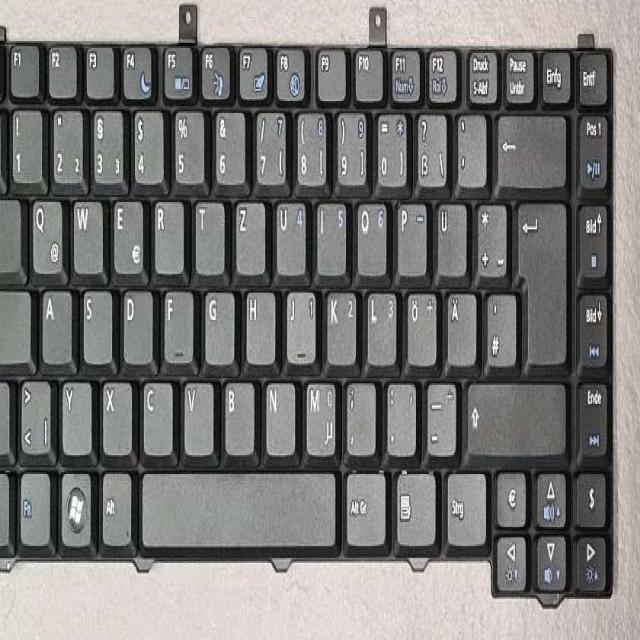0: (374, 108, 408, 188)
1: (9, 105, 43, 187)
2: (50, 105, 84, 187)
3: (91, 105, 124, 187)
4: (131, 106, 164, 185)
5: (171, 106, 205, 187)
6: (213, 106, 246, 187)
7: (254, 108, 286, 185)
8: (294, 108, 327, 188)
9: (335, 108, 367, 188)
a: (40, 286, 73, 364)
accent: (455, 110, 487, 188)
ae: (444, 289, 477, 368)
alt-left: (99, 469, 132, 547)
altgr-right: (343, 467, 386, 548)
b: (221, 376, 255, 457)
c: (140, 376, 174, 457)
caret: (0, 104, 17, 185)
comma: (344, 376, 376, 457)
d: (121, 286, 154, 364)
del: (493, 110, 566, 188)
e: (111, 195, 144, 277)
enter: (514, 197, 569, 371)
f: (162, 286, 194, 364)
g: (203, 288, 235, 365)
h: (243, 288, 277, 365)
hash: (484, 289, 517, 370)
i: (314, 197, 347, 275)
j: (285, 286, 316, 363)
k: (325, 288, 356, 366)
keyboard: (0, 32, 616, 599)
l: (364, 288, 397, 366)
less: (18, 375, 52, 457)
m: (303, 376, 337, 457)
minus: (425, 378, 457, 457)
n: (263, 376, 296, 457)
o: (354, 197, 387, 277)
oe: (405, 289, 437, 366)
p: (394, 199, 427, 277)
plus: (475, 197, 507, 279)
point: (384, 378, 417, 457)
q: (30, 195, 63, 276)
r: (152, 197, 185, 275)
s: (80, 286, 113, 364)
shift-left: (0, 376, 21, 456)
shift-lock: (0, 284, 32, 363)
shift-right: (463, 376, 569, 457)
space: (139, 469, 337, 549)
ss: (416, 110, 447, 188)
strg-left: (0, 469, 23, 551)
strg-right: (442, 467, 487, 548)
t: (193, 197, 226, 275)
tab: (0, 195, 27, 274)
u: (274, 197, 307, 277)
ue: (434, 197, 467, 279)
v: (181, 376, 214, 457)
w: (70, 195, 104, 276)
x: (100, 376, 132, 457)
y: (60, 376, 93, 457)
z: (233, 197, 266, 275)
